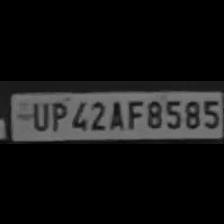2: (86, 97, 106, 129)
4: (66, 97, 88, 129)
5: (199, 96, 221, 128), (162, 96, 182, 128)
8: (143, 96, 163, 128), (182, 96, 200, 128)
A: (104, 97, 124, 129)
F: (124, 97, 142, 128)
P: (47, 98, 67, 130)
U: (28, 97, 48, 129)
